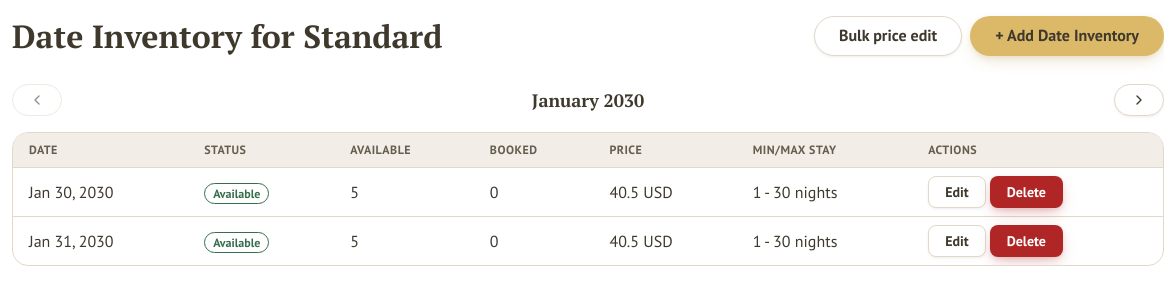
Test case: date inventory by month › cannot go before the first or after the last month with dates
This screenshot has width=1176, height=283.
expect the text "January 2030" is shown: met, box [532,86,644,114]
expect the button named "Previous month" is disabled: met, box [12,84,62,116]
Click the button named "Next month" at (1139, 100), box [1114,84,1164,116]
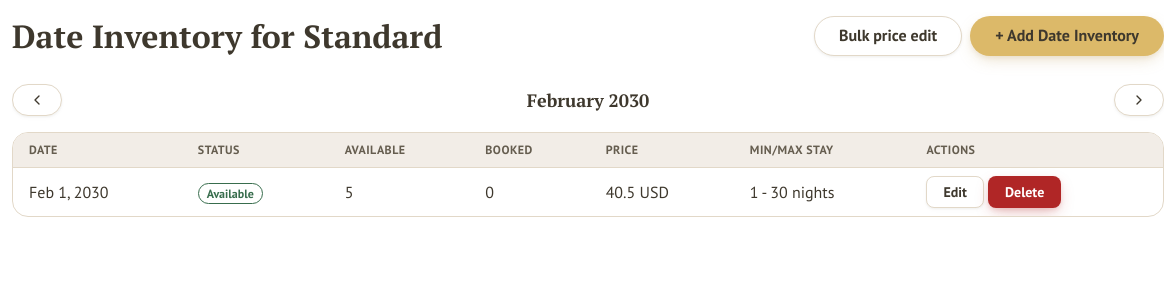
Click the button named "Next month" at (1139, 100), box [1114,84,1164,116]
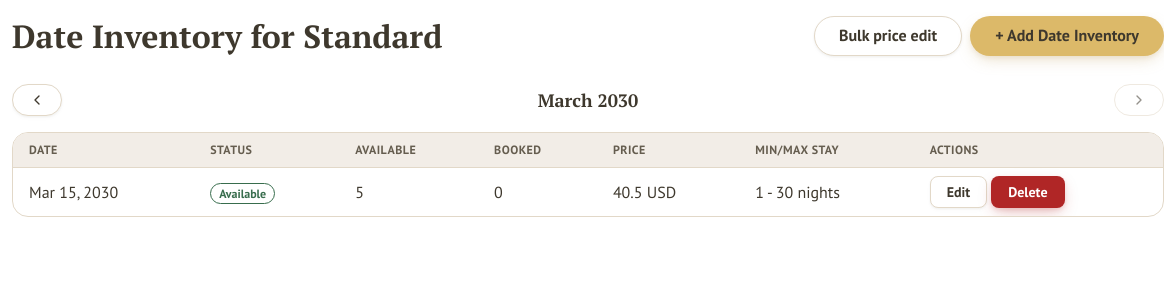
expect the text "March 2030" is shown: met, box [538,86,638,114]
